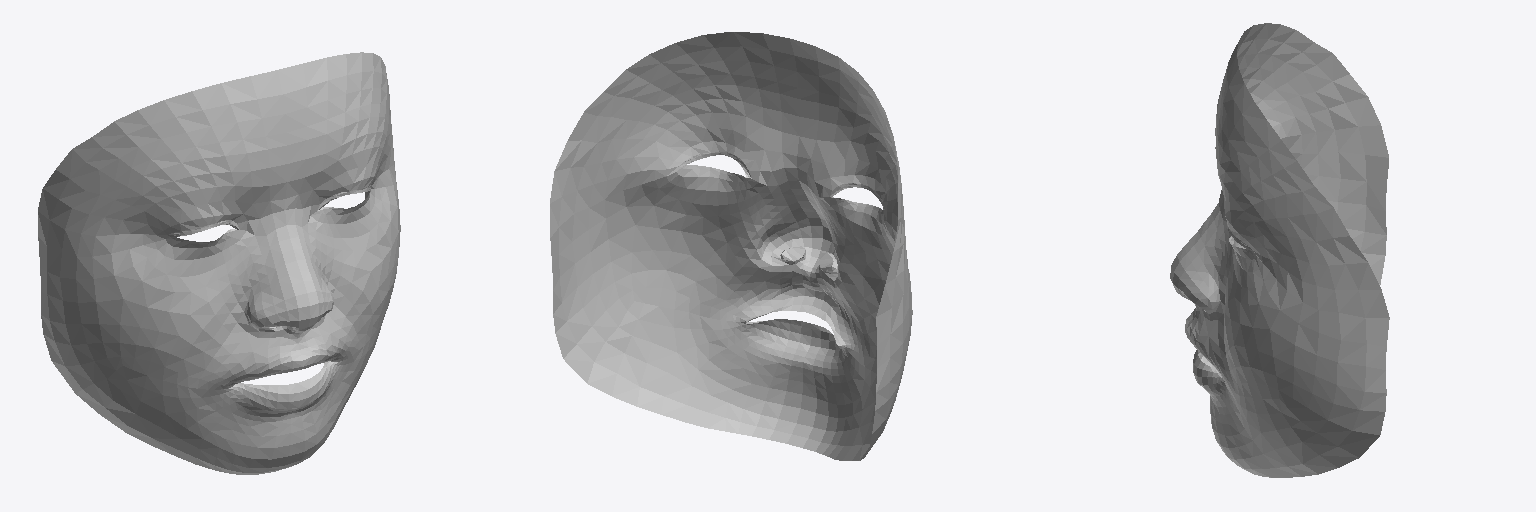
The model's file is mouthShrugUpper.obj.
3 renders of one model, left to right at view 1: azimuth 30°, elevation 25°; view 2: azimuth 150°, elevation 25°; view 3: azimuth 270°, elevation 25°, orthographic.
Parts seen in each view (by area): view 1: default; view 2: default; view 3: default.
Part boxes in pixels (x1,y1,x2,y2): default: (38,52,400,474); default: (550,32,912,460); default: (1170,23,1389,477).
Size of the model in its own units: 0.1624 by 0.1851 by 0.0912.